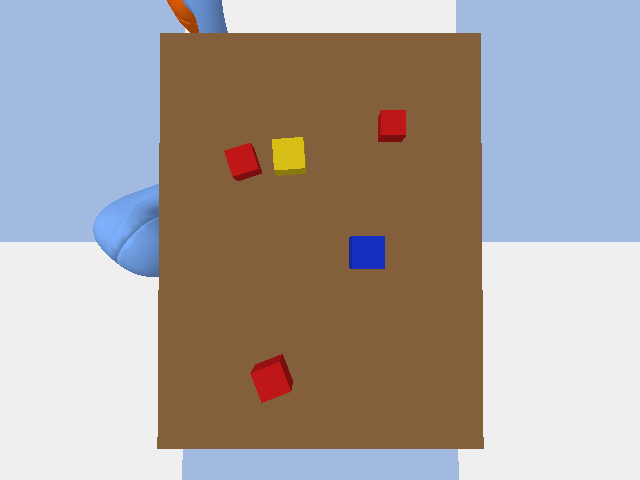blue_obj: (349, 236, 384, 268)
red_obj: (250, 354, 292, 402), (224, 143, 261, 180), (378, 110, 405, 141)
yellow_obj: (272, 137, 306, 175)
